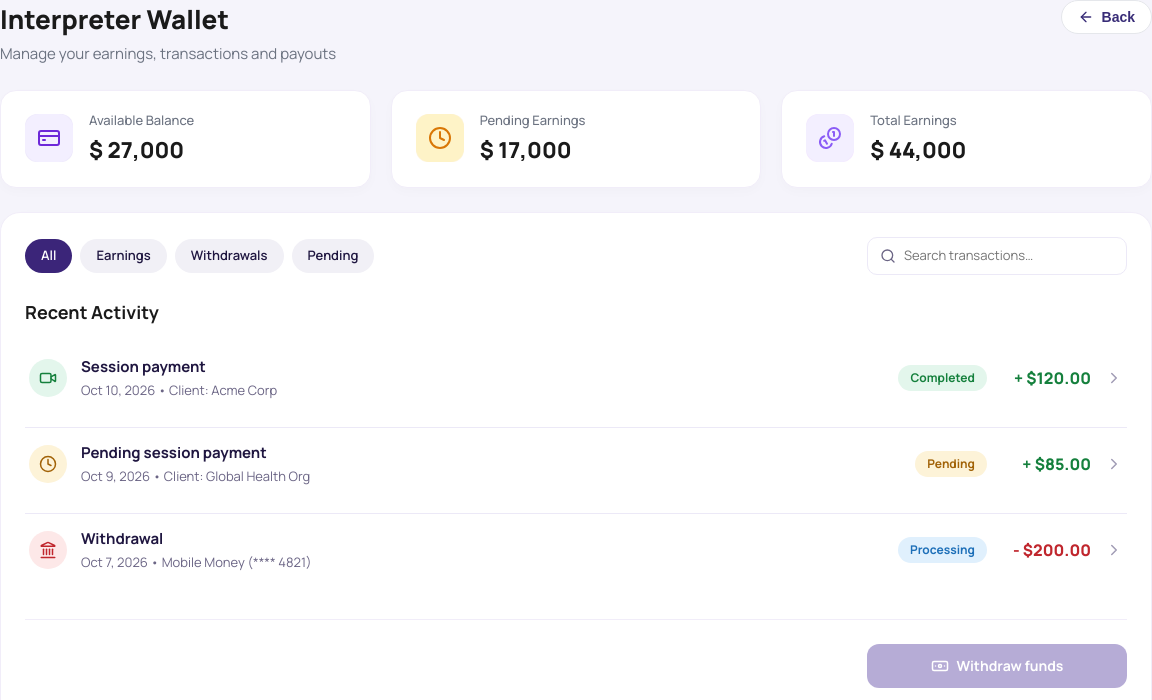
Test case: InterpreterWalletPage › searches titles and details
The image size is (1152, 700).
Check: the text "Session payment" is shown, box top-left (81, 356), bottom-right (206, 376)
Type "global" into the search field labelled "Search transactions".
click(1009, 256); type("global")  # box top-left (904, 246), bottom-right (1114, 266)
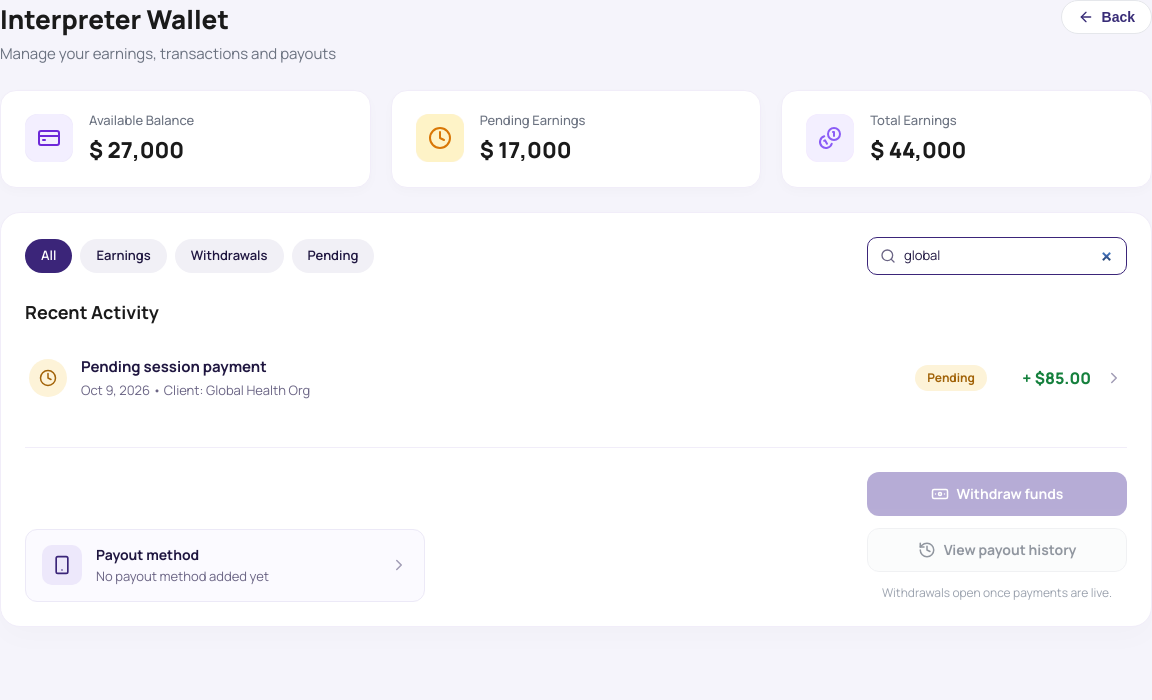
Check: the text "Pending session payment" is shown, box top-left (81, 356), bottom-right (267, 376)
Check: the number of list items is 1, box top-left (29, 356), bottom-right (1123, 399)
